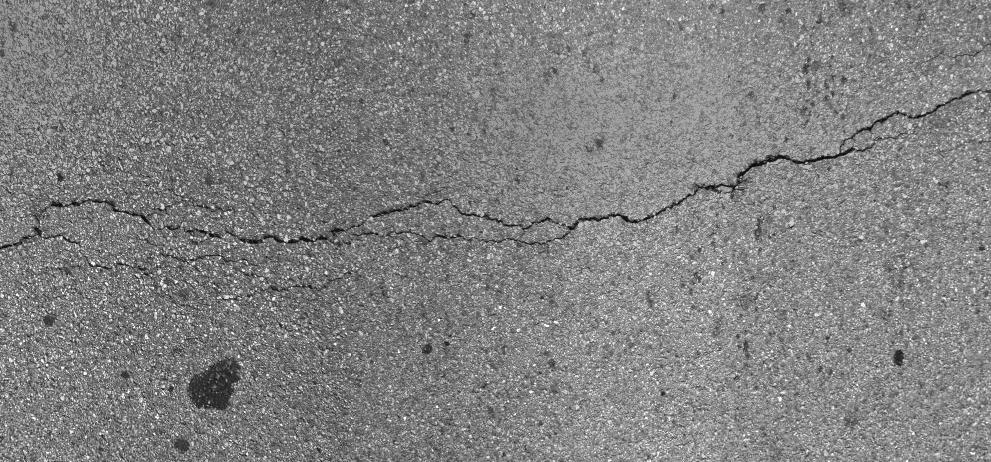crack: (4, 89, 991, 260)
